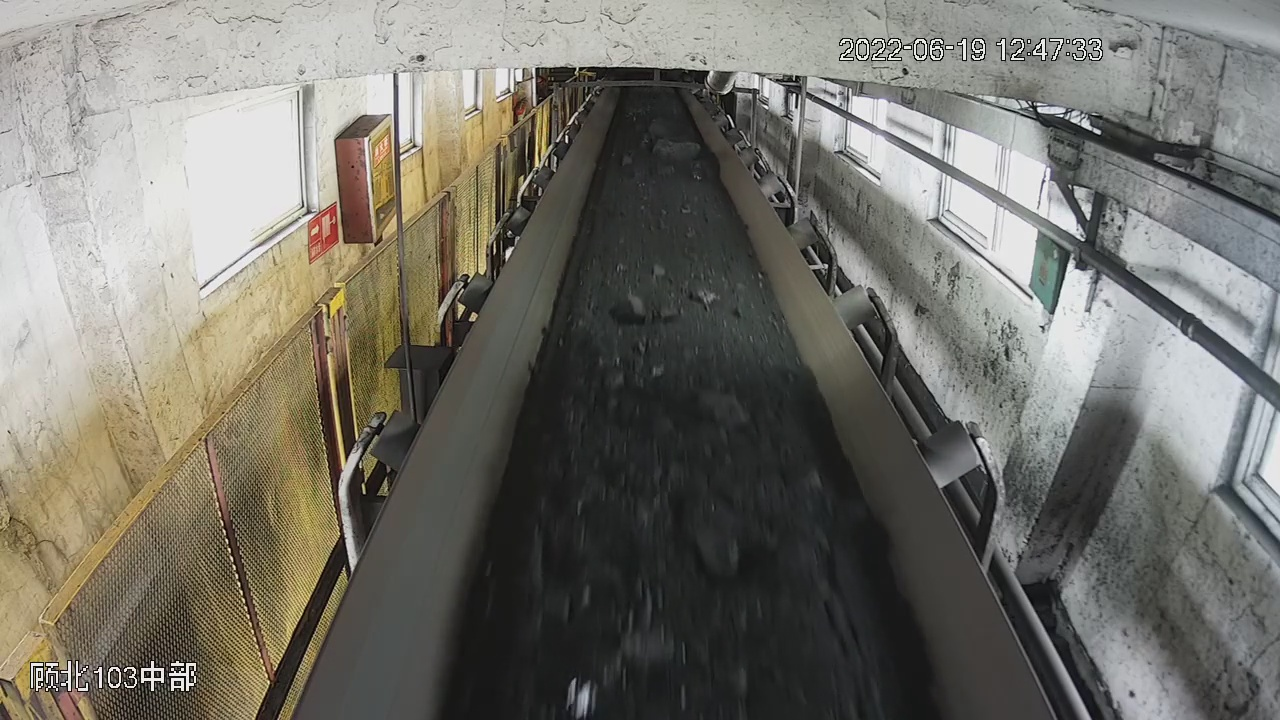gangue: (690, 514, 733, 571), (696, 386, 747, 425), (569, 677, 596, 716), (614, 294, 647, 321), (653, 139, 699, 158), (648, 117, 676, 138), (691, 279, 713, 302)
